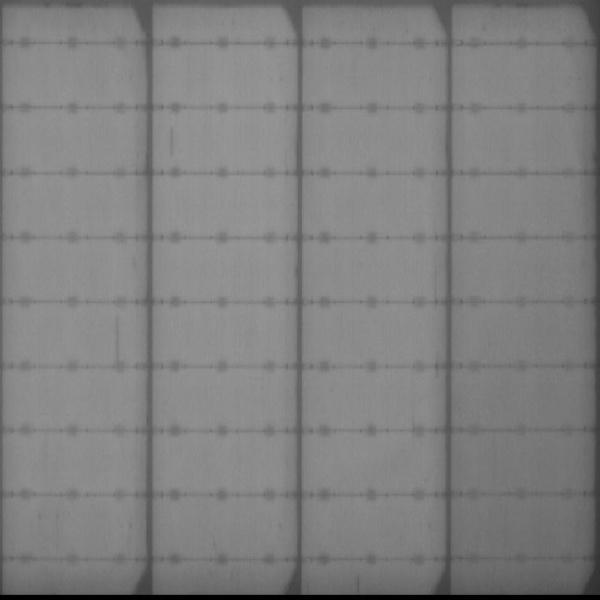scratch: (112, 313, 130, 374), (166, 125, 180, 160)
